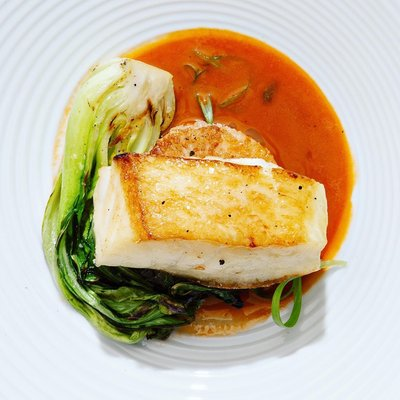soup: (55, 118, 336, 342)
